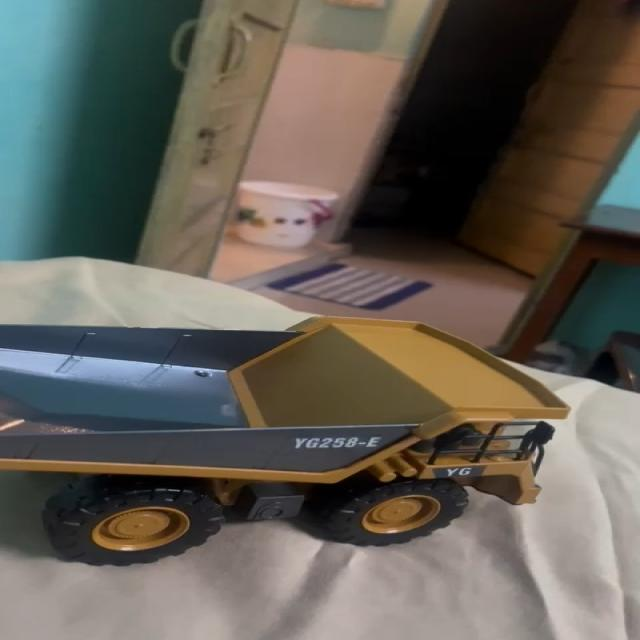dump_truck: (0, 312, 553, 570)
